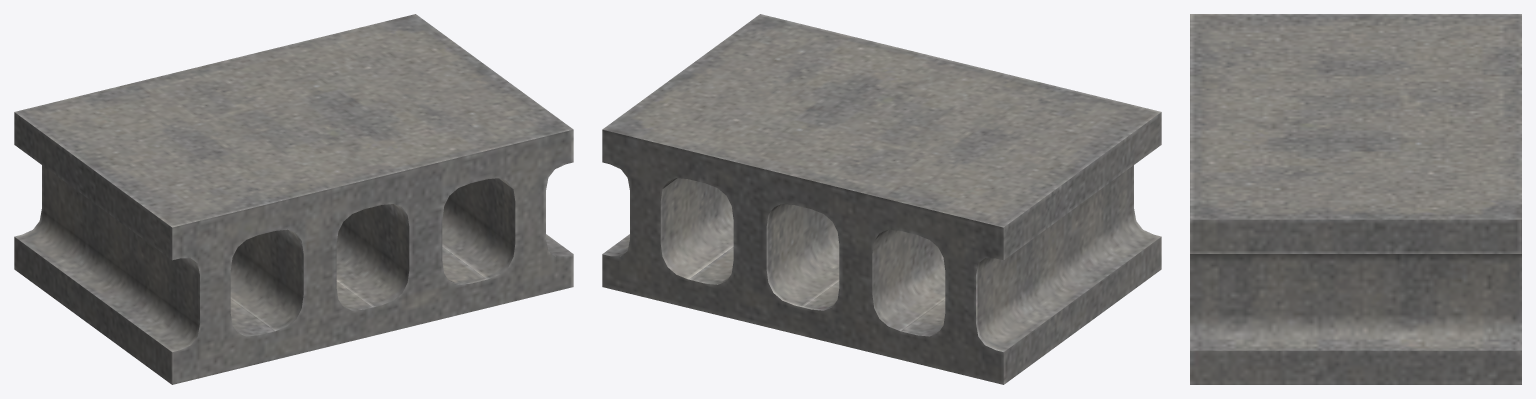
File: ConcreteBlock_00_00S.fbx
The picture shows the model from 3 angles, left to right: view 1: azimuth 30°, elevation 25°; view 2: azimuth 150°, elevation 25°; view 3: azimuth 270°, elevation 25°; orthographic projection. The views are drawn at different scales.
Visible parts, largest first — view 1: LODGroup_1_MainMesh_1_SubMesh_1; view 2: LODGroup_1_MainMesh_1_SubMesh_1; view 3: LODGroup_1_MainMesh_1_SubMesh_1.
Part boxes in pixels (left/top/right/bottom): LODGroup_1_MainMesh_1_SubMesh_1: left=14, top=14, right=573, bottom=384; LODGroup_1_MainMesh_1_SubMesh_1: left=602, top=14, right=1161, bottom=384; LODGroup_1_MainMesh_1_SubMesh_1: left=1190, top=14, right=1521, bottom=384.
Size of the model in its own units: 38.13 by 14.28 by 25.98.
